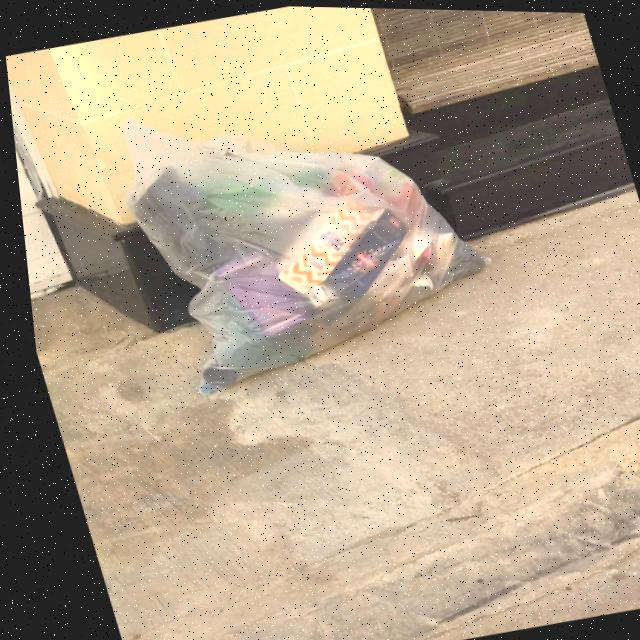Recycled Waste -Grey or Green Bag-: (94, 57, 514, 408)
